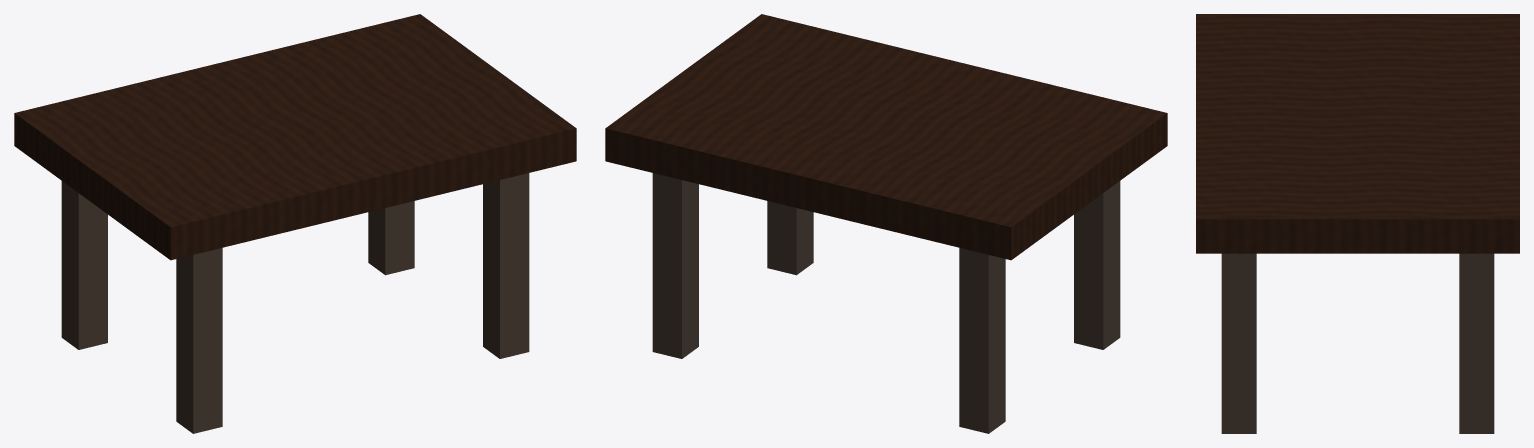
The model's file is module_soban_table.glb.
3 views of the same model, side by side, from view 1: azimuth 30°, elevation 25°; view 2: azimuth 150°, elevation 25°; view 3: azimuth 270°, elevation 25° (orthographic). The views are drawn at different scales.
Parts seen in each view (by area): view 1: table_top, table_leg.002, table_leg, table_leg.001, table_leg.003; view 2: table_top, table_leg.003, table_leg.001, table_leg, table_leg.002; view 3: table_top, table_leg.002, table_leg.003.
Boxes of the visible parts, x1,y1,x2,y2 form: table_top: [14, 14, 576, 260]; table_leg.002: [483, 173, 529, 358]; table_leg: [176, 248, 222, 433]; table_leg.001: [61, 181, 107, 349]; table_leg.003: [368, 201, 414, 275]; table_top: [605, 14, 1167, 260]; table_leg.003: [652, 173, 698, 358]; table_leg.001: [959, 248, 1005, 433]; table_leg: [1074, 181, 1120, 349]; table_leg.002: [767, 201, 813, 275]; table_top: [1196, 14, 1519, 253]; table_leg.002: [1221, 253, 1256, 433]; table_leg.003: [1459, 253, 1494, 433].
Size of the model in its own units: 0.9 by 0.475 by 0.6.
Materials: 2 (1 with a texture image).
